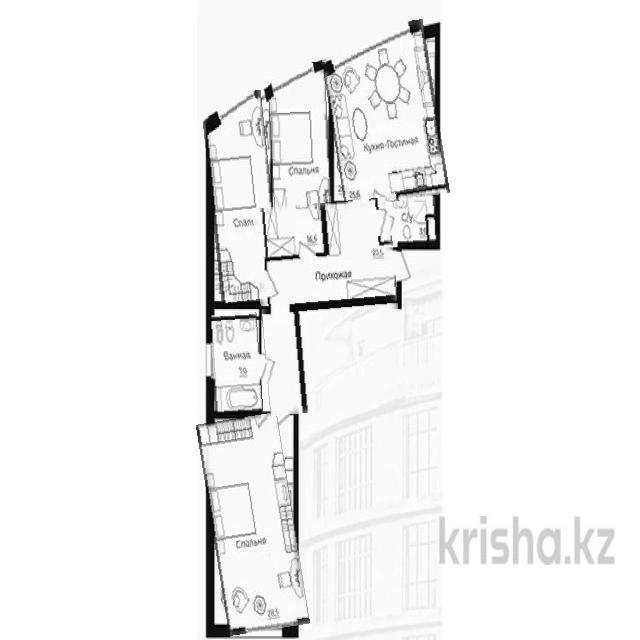bathroom: (211, 314, 261, 414), (385, 195, 438, 247)
hallway: (261, 199, 396, 416)
living_room: (204, 414, 302, 634), (204, 90, 281, 306), (270, 63, 334, 254)
studio: (325, 19, 450, 209)
